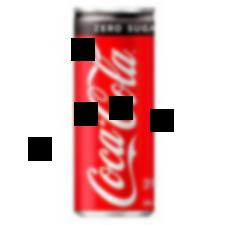cocacola_zero: (69, 3, 159, 219)
